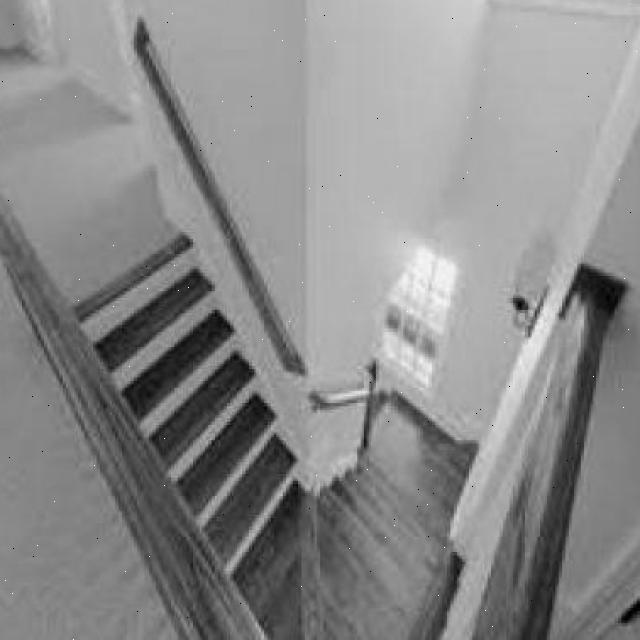stair: (108, 249, 308, 532)
